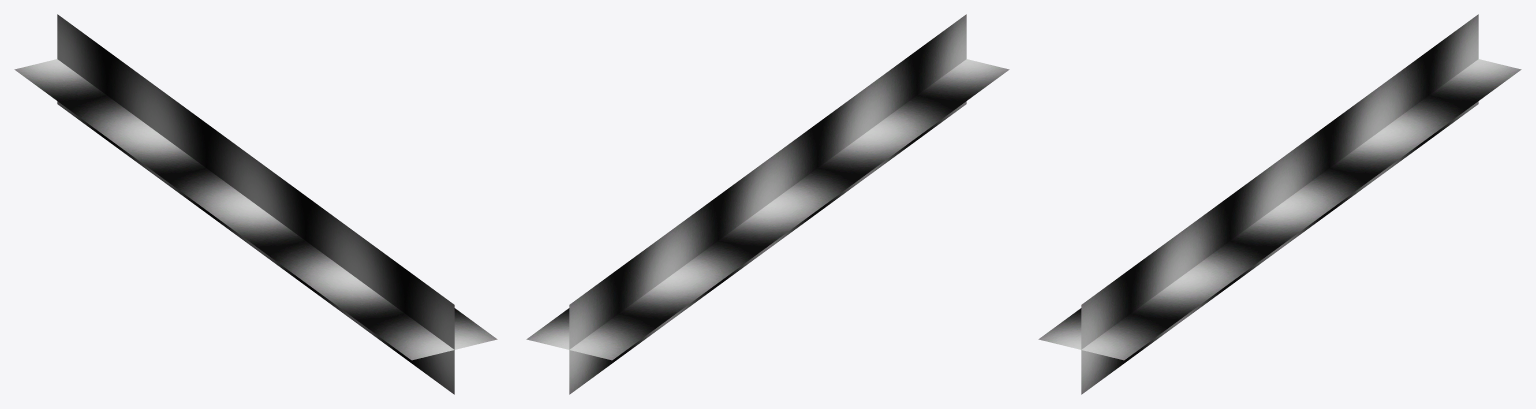
Rendered from vfx_kurp_0768.dae.
3 views of the same model, side by side, from view 1: azimuth 30°, elevation 25°; view 2: azimuth 150°, elevation 25°; view 3: azimuth 330°, elevation 25° (orthographic).
Visible parts, largest first — view 1: vfx_kurp_0768; view 2: vfx_kurp_0768; view 3: vfx_kurp_0768.
Part boxes in pixels (left/top/right/bottom): vfx_kurp_0768: left=14, top=14, right=497, bottom=394; vfx_kurp_0768: left=526, top=14, right=1009, bottom=394; vfx_kurp_0768: left=1038, top=14, right=1521, bottom=394.
Size of the model in its own units: 0.18 by 1.44 by 0.18.
Materials: 1 (1 with a texture image).
